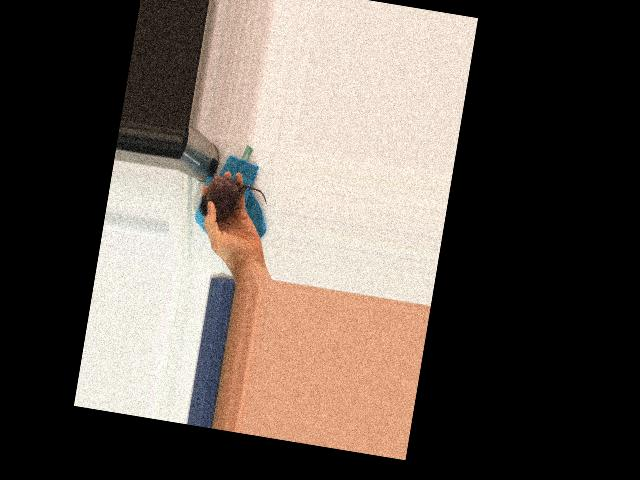beet: (197, 172, 270, 229)
